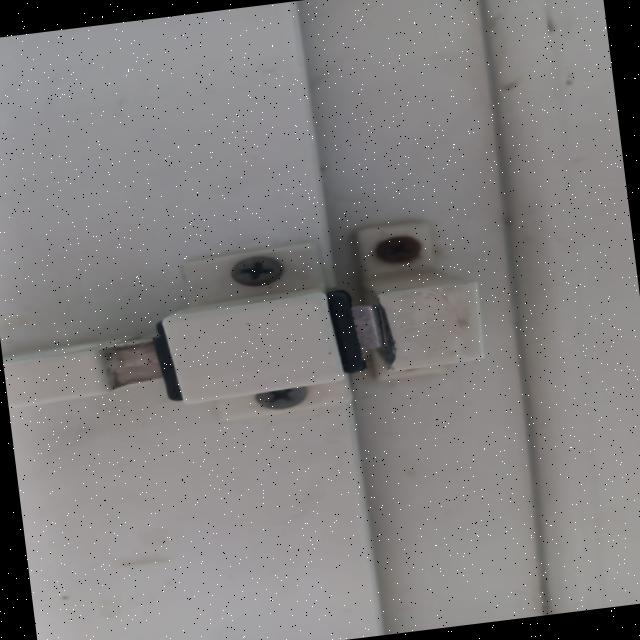Phillips: (358, 226, 442, 270), (221, 250, 290, 289)
